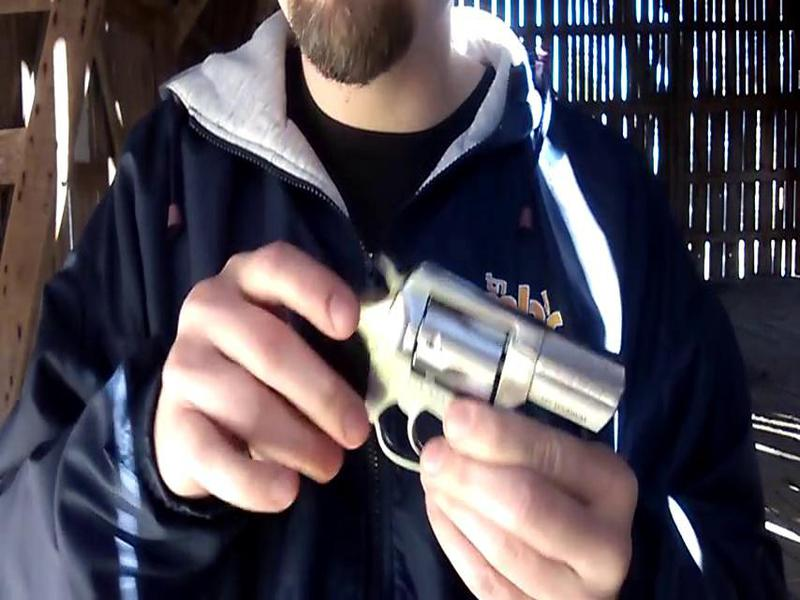Revolver: (331, 236, 648, 472)
